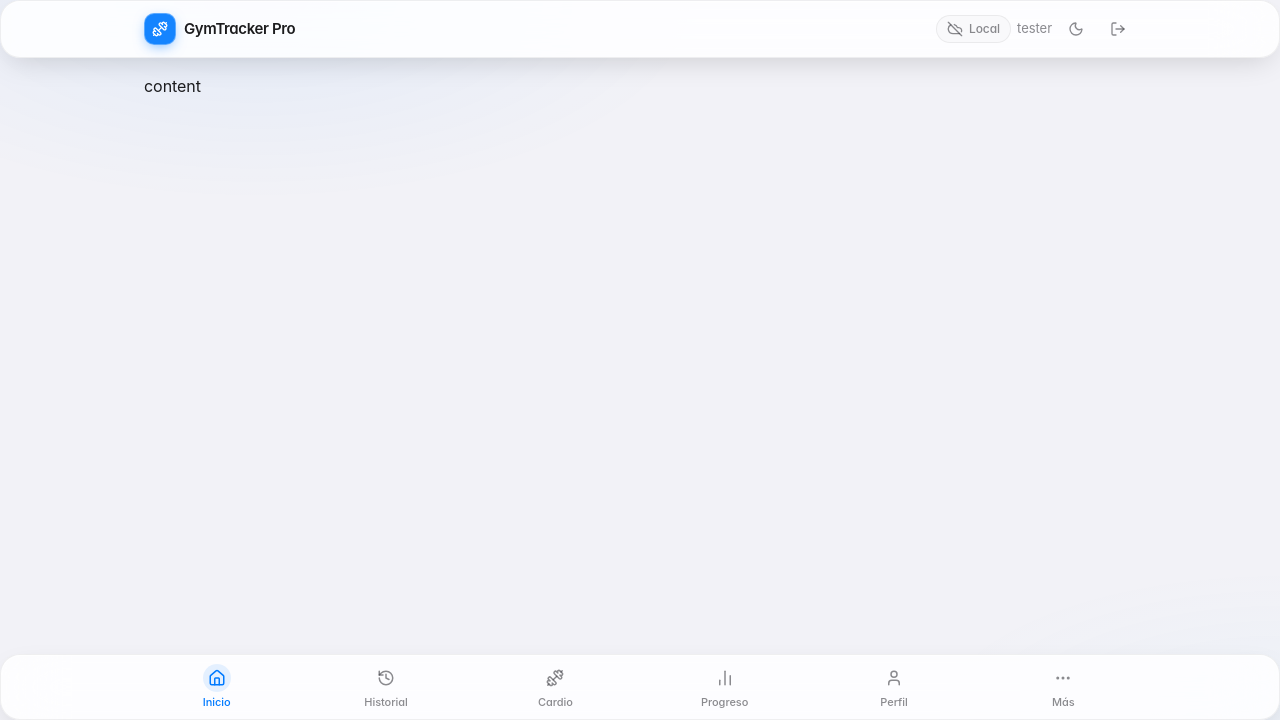
Test case: Shell › opens the More submenu above the nav when clicked
Click the button "Más" at [1063, 687], box [979,655,1148,719]
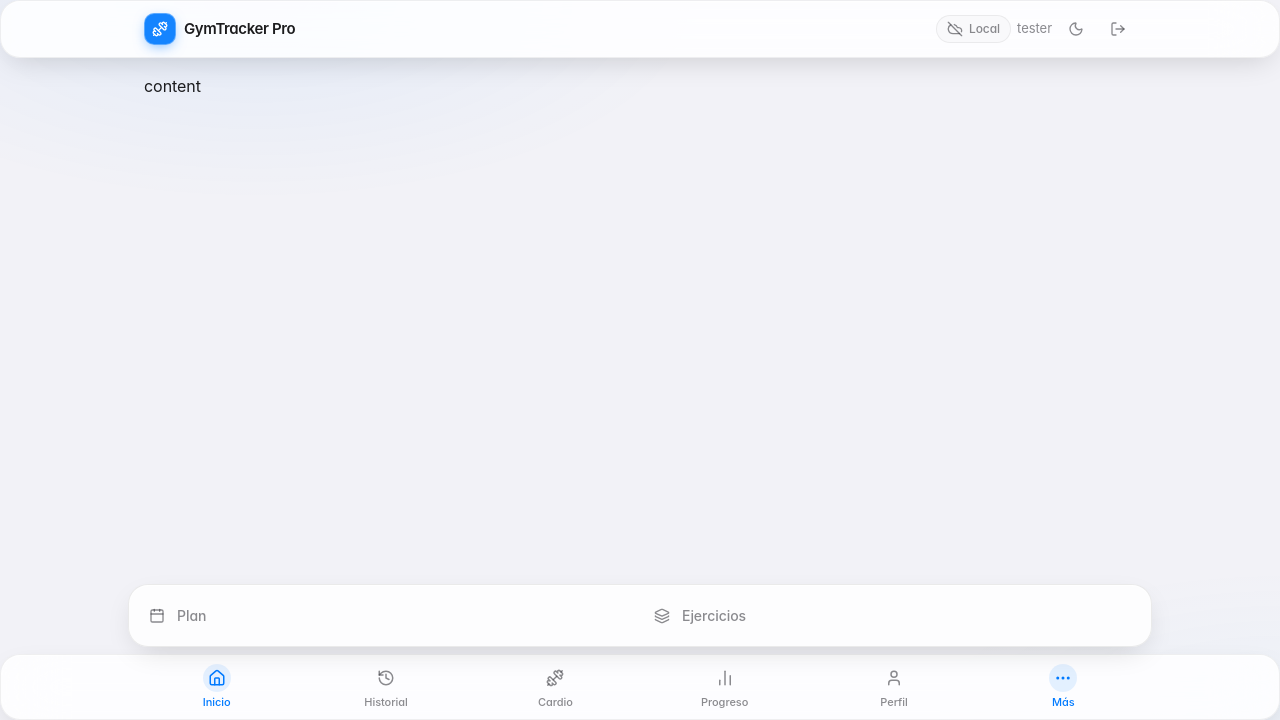
Result: the menu is shown at [128,584,1152,647]
Result: the menu item "Plan" is shown at [149,607,206,624]
Result: the menu item "Ejercicios" is shown at [654,607,746,624]
